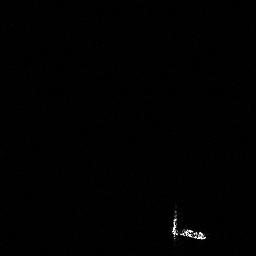ship: (170, 209, 208, 243)
